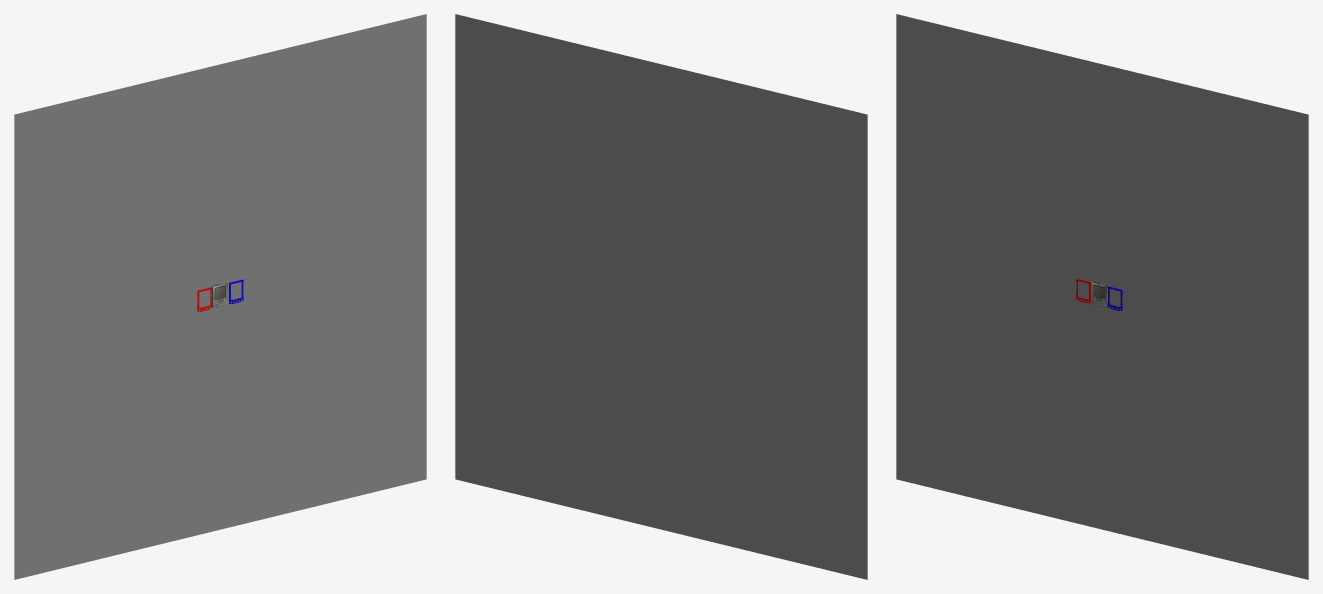
The model's file is palmM505.obj.
The picture shows the model from 3 angles, left to right: view 1: azimuth 30°, elevation 25°; view 2: azimuth 150°, elevation 25°; view 3: azimuth 330°, elevation 25°; orthographic projection.
Visible parts, largest first — view 1: floor; view 2: floor; view 3: floor.
Part boxes in pixels (left/top/right/bottom): floor: left=14, top=14, right=426, bottom=579; floor: left=455, top=14, right=867, bottom=579; floor: left=896, top=14, right=1308, bottom=579.
Bounding box in the file's own units: 10594 × 11425 × 76.41.
Materials: 9 (2 with a texture image).
